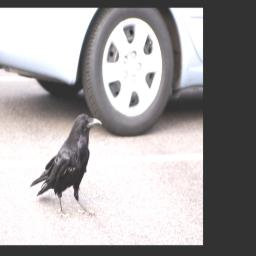Crow: (29, 111, 102, 217)
